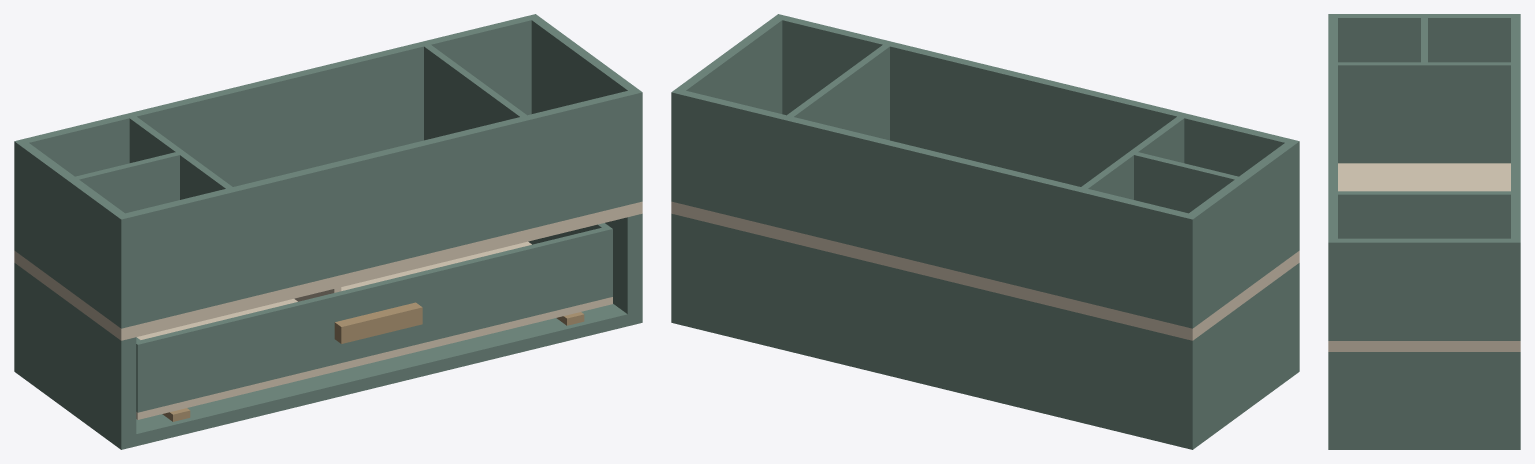
3 views of the same model, side by side, from view 1: azimuth 30°, elevation 25°; view 2: azimuth 150°, elevation 25°; view 3: azimuth 270°, elevation 25° (orthographic). The views are drawn at different scales.
Parts seen in each view (by area): view 1: storage-upper-front, storage-upper-back, storage-drawer-front, storage-base, storage-upper-left, storage-side-left, storage-roof, storage-upper-right, storage-drawer-bottom, storage-divider-right, storage-divider-cross-left, storage-side-right (+4 smaller); view 2: storage-upper-back, storage-back, storage-upper-front, storage-upper-left, storage-side-left, storage-roof, storage-base, storage-upper-right, storage-divider-right, storage-divider-cross-left, storage-divider-left, storage-side-right; view 3: storage-upper-right, storage-divider-left, storage-side-right, storage-divider-right, storage-upper-left, storage-roof, storage-upper-back, storage-upper-front, storage-base, storage-divider-cross-left.
Boxes of the visible parts, x1=… form: storage-upper-front: x1=125, y1=91, x2=633, y2=326; storage-upper-back: x1=24, y1=16, x2=531, y2=186; storage-drawer-front: x1=141, y1=227, x2=605, y2=410; storage-base: x1=14, y1=304, x2=642, y2=449; storage-upper-left: x1=14, y1=139, x2=130, y2=328; storage-side-left: x1=14, y1=263, x2=136, y2=437; storage-roof: x1=14, y1=201, x2=642, y2=340; storage-upper-right: x1=526, y1=14, x2=642, y2=203; storage-drawer-bottom: x1=136, y1=241, x2=612, y2=419; storage-divider-right: x1=424, y1=45, x2=526, y2=140; storage-divider-cross-left: x1=75, y1=152, x2=179, y2=213; storage-side-right: x1=605, y1=213, x2=642, y2=314; storage-upper-back: x1=680, y1=91, x2=1188, y2=326; storage-back: x1=686, y1=217, x2=1177, y2=433; storage-upper-front: x1=782, y1=16, x2=1289, y2=186; storage-upper-left: x1=1183, y1=139, x2=1299, y2=328; storage-side-left: x1=1177, y1=263, x2=1299, y2=437; storage-roof: x1=671, y1=201, x2=1299, y2=340; storage-base: x1=671, y1=310, x2=1299, y2=449; storage-upper-right: x1=671, y1=14, x2=787, y2=203; storage-divider-right: x1=787, y1=45, x2=889, y2=140; storage-divider-cross-left: x1=1134, y1=152, x2=1238, y2=213; storage-divider-left: x1=1081, y1=116, x2=1184, y2=199; storage-side-right: x1=671, y1=213, x2=686, y2=313; storage-upper-right: x1=1328, y1=238, x2=1520, y2=340; storage-divider-left: x1=1338, y1=62, x2=1510, y2=163; storage-side-right: x1=1328, y1=352, x2=1520, y2=438; storage-divider-right: x1=1338, y1=191, x2=1510, y2=238; storage-upper-left: x1=1328, y1=14, x2=1520, y2=62; storage-roof: x1=1328, y1=163, x2=1520, y2=351; storage-upper-back: x1=1511, y1=18, x2=1520, y2=238; storage-upper-front: x1=1328, y1=18, x2=1337, y2=238; storage-base: x1=1328, y1=439, x2=1520, y2=449; storage-divider-cross-left: x1=1421, y1=18, x2=1427, y2=62.
Bounding box in the file's own units: 0.45 × 0.19 × 0.16.
